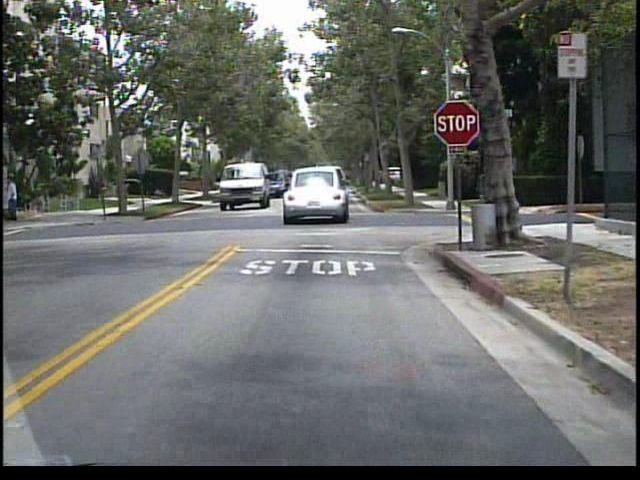person: (8, 170, 23, 225)
